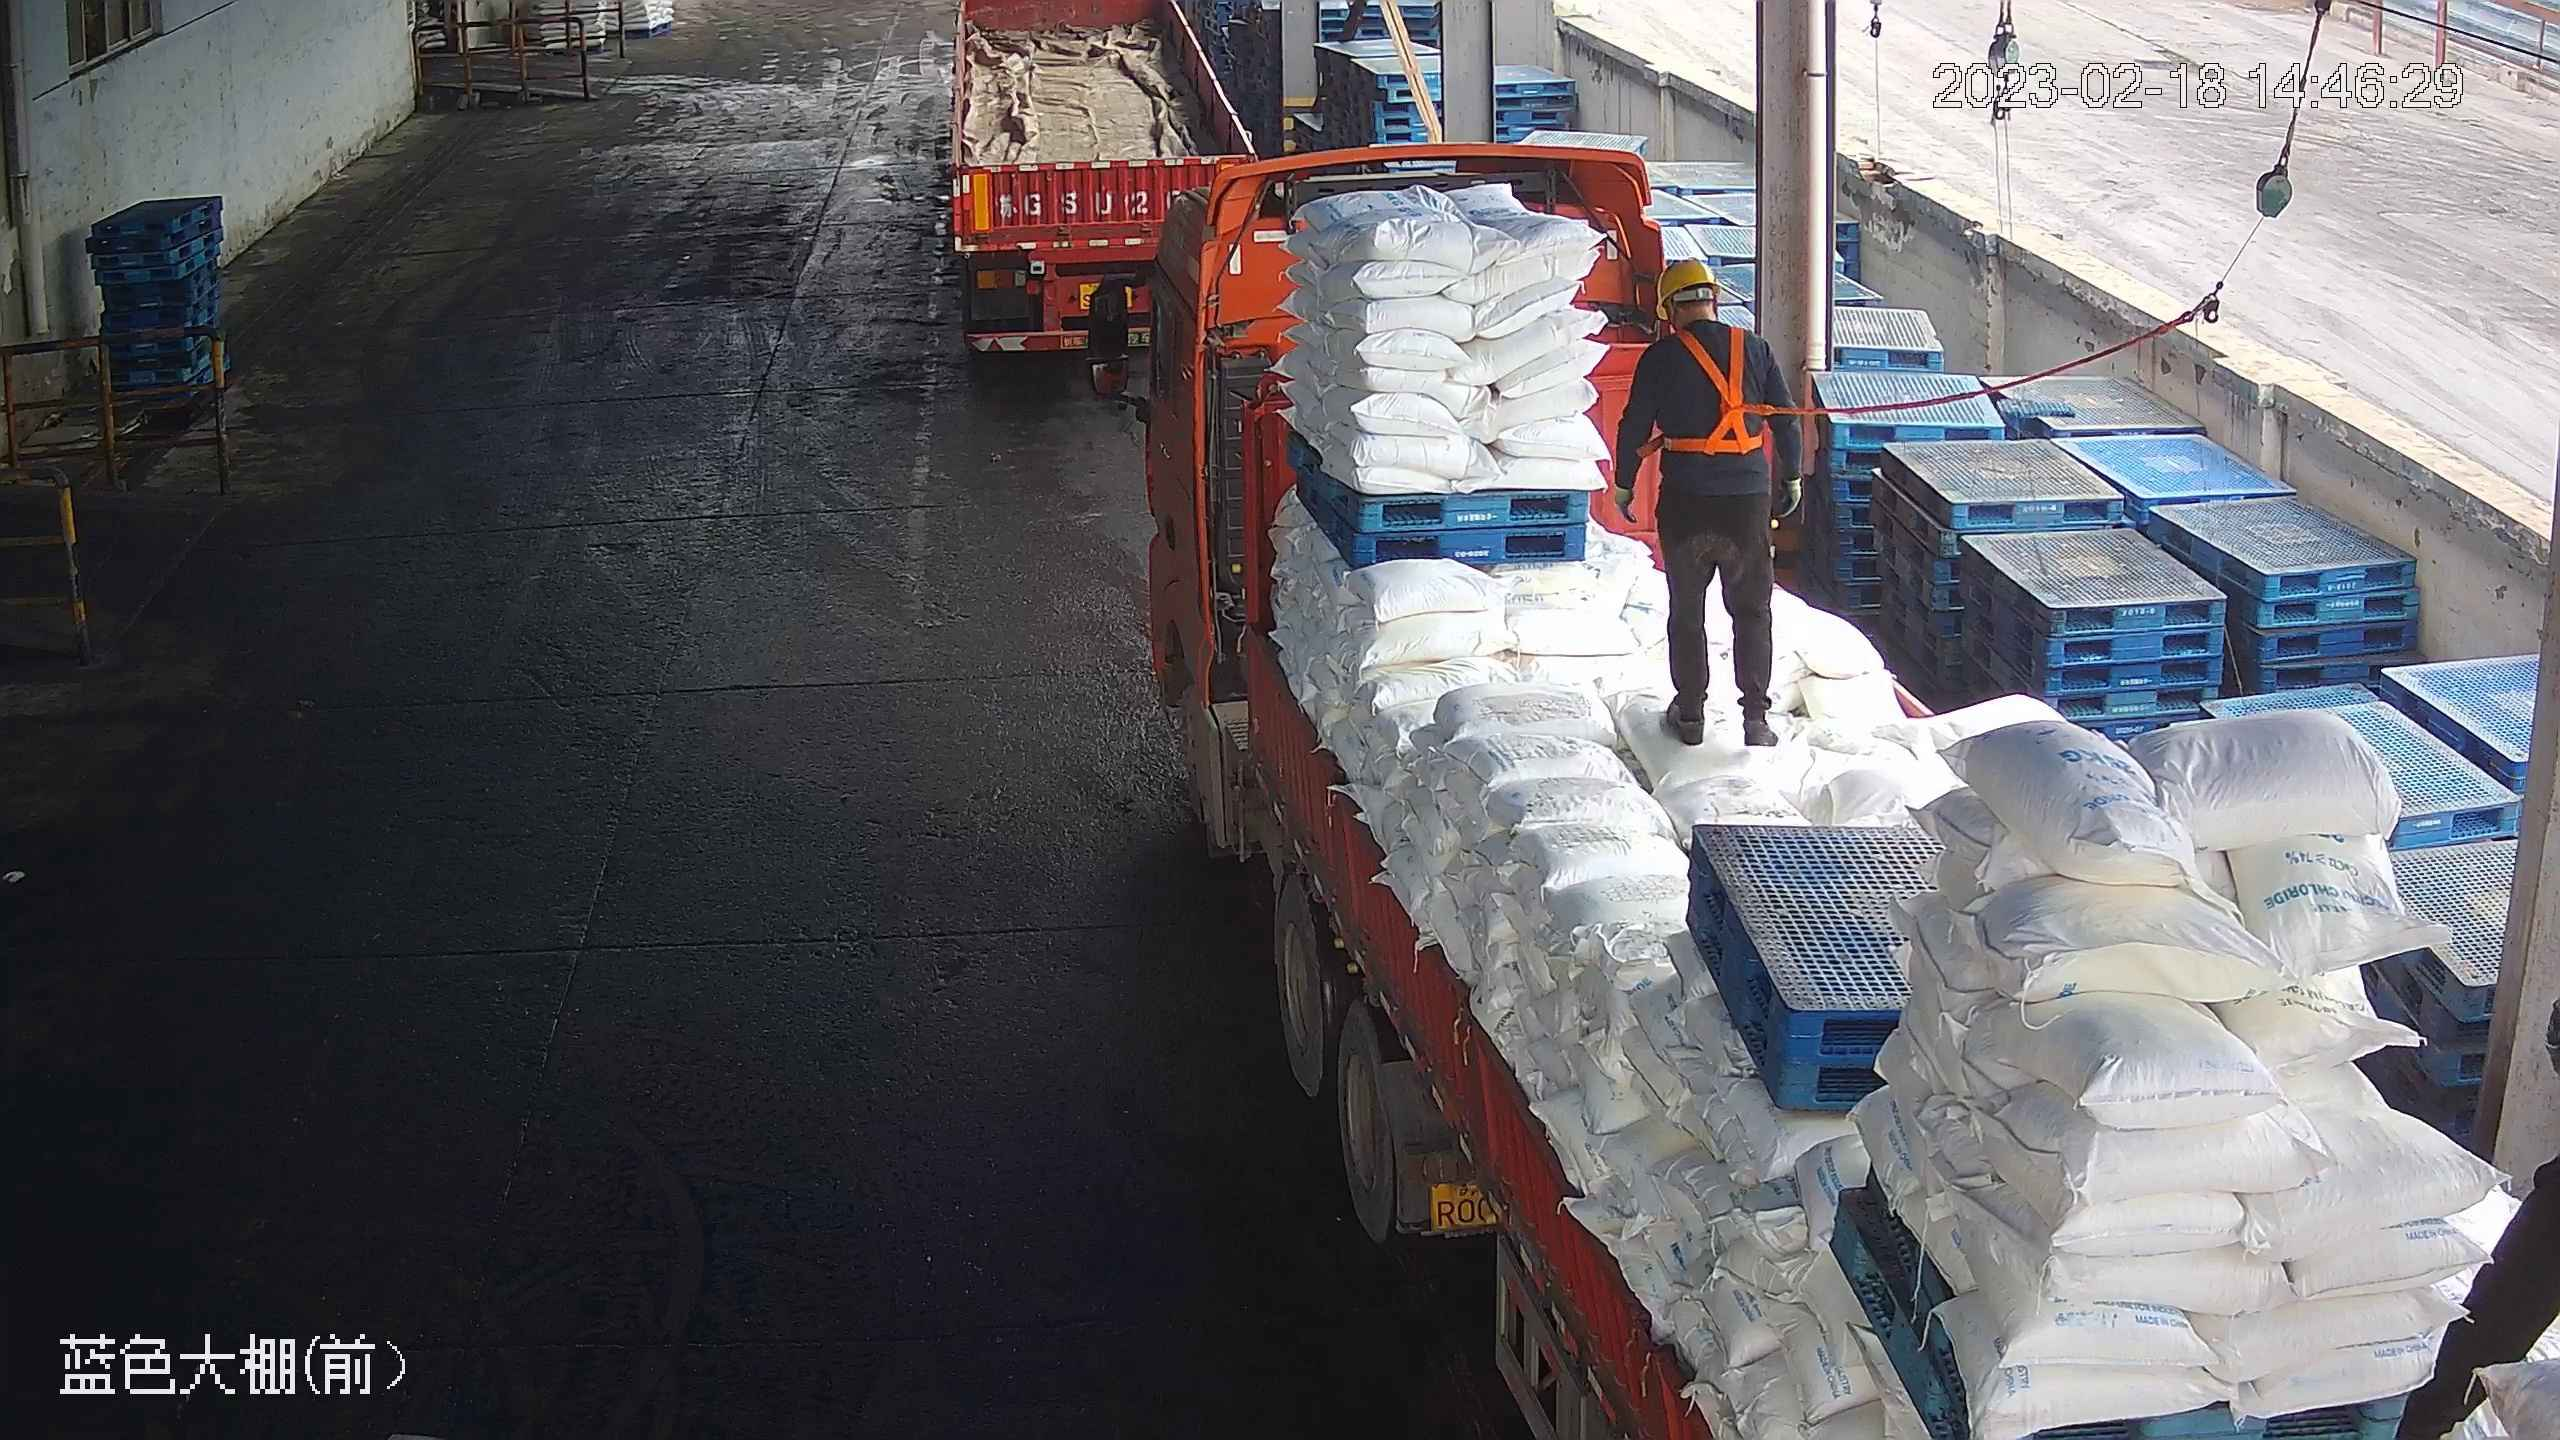belt: (1660, 322, 1776, 457)
head: (1633, 256, 1784, 379)
helmet: (1652, 255, 1721, 310)
people: (1613, 252, 1807, 750)
truck: (1090, 142, 2558, 1440), (947, 1, 1260, 357)
